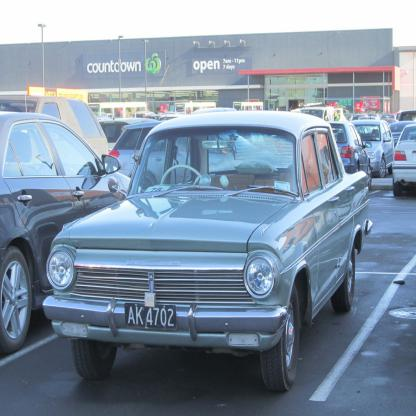Car: (0, 91, 416, 358)
